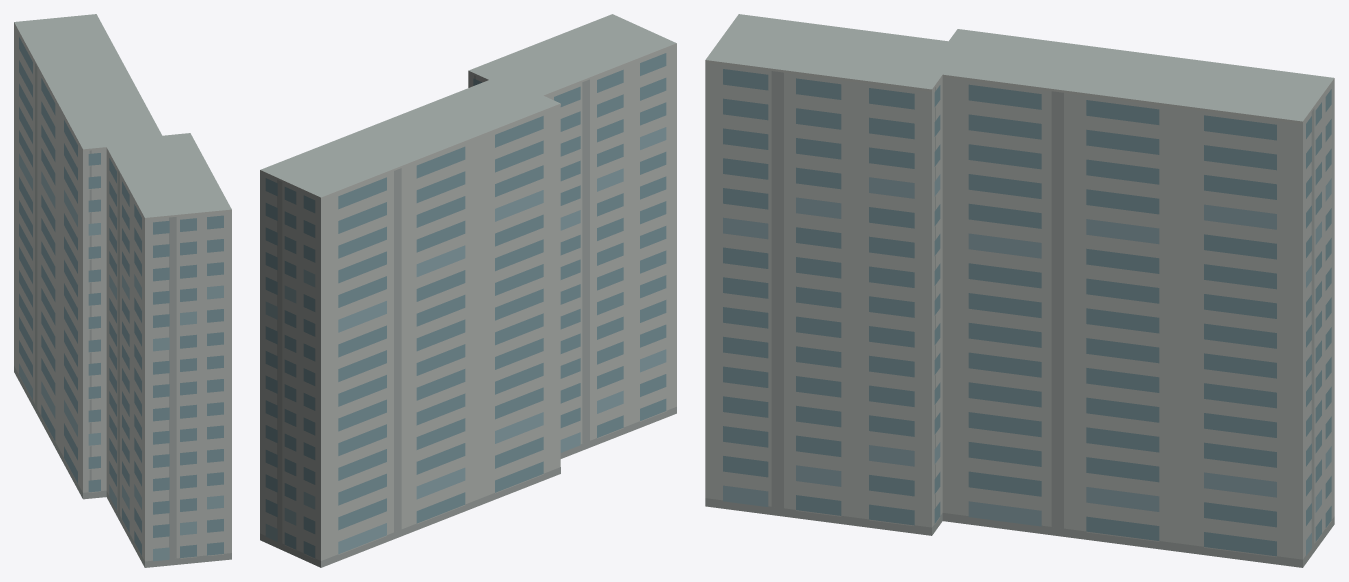
Rendered from residential-60e72e7a-50aa-4811-9f9f-eb908cf7c139.glb.
3 views of the same model, side by side, from view 1: azimuth 30°, elevation 25°; view 2: azimuth 150°, elevation 25°; view 3: azimuth 270°, elevation 25° (orthographic). The views are drawn at different scales.
Visible parts, largest first — view 1: residential-60e72e7a-50aa-4811-9f9f-eb908cf7c139.tmp; view 2: residential-60e72e7a-50aa-4811-9f9f-eb908cf7c139.tmp; view 3: residential-60e72e7a-50aa-4811-9f9f-eb908cf7c139.tmp.
Boxes of the visible parts, x1=… form: residential-60e72e7a-50aa-4811-9f9f-eb908cf7c139.tmp: x1=14, y1=14, x2=231, y2=567; residential-60e72e7a-50aa-4811-9f9f-eb908cf7c139.tmp: x1=260, y1=14, x2=676, y2=567; residential-60e72e7a-50aa-4811-9f9f-eb908cf7c139.tmp: x1=705, y1=14, x2=1334, y2=567.
Bounding box in the file's own units: 23.64 × 45.75 × 58.45.
